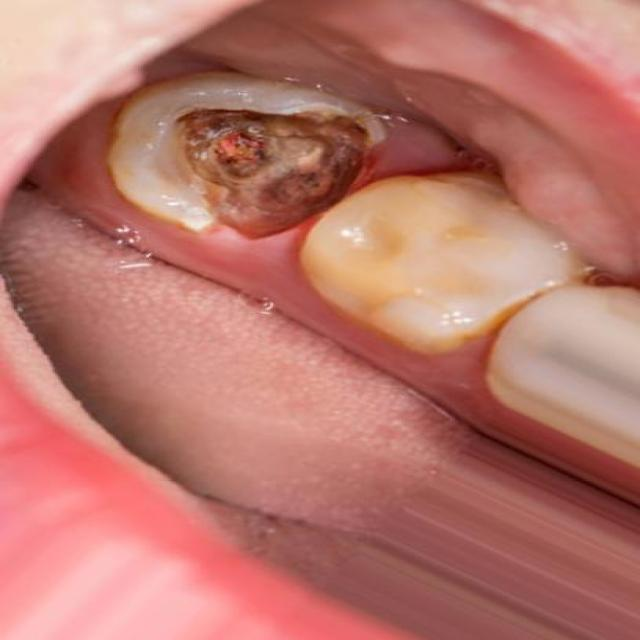caries: (145, 76, 416, 260)
